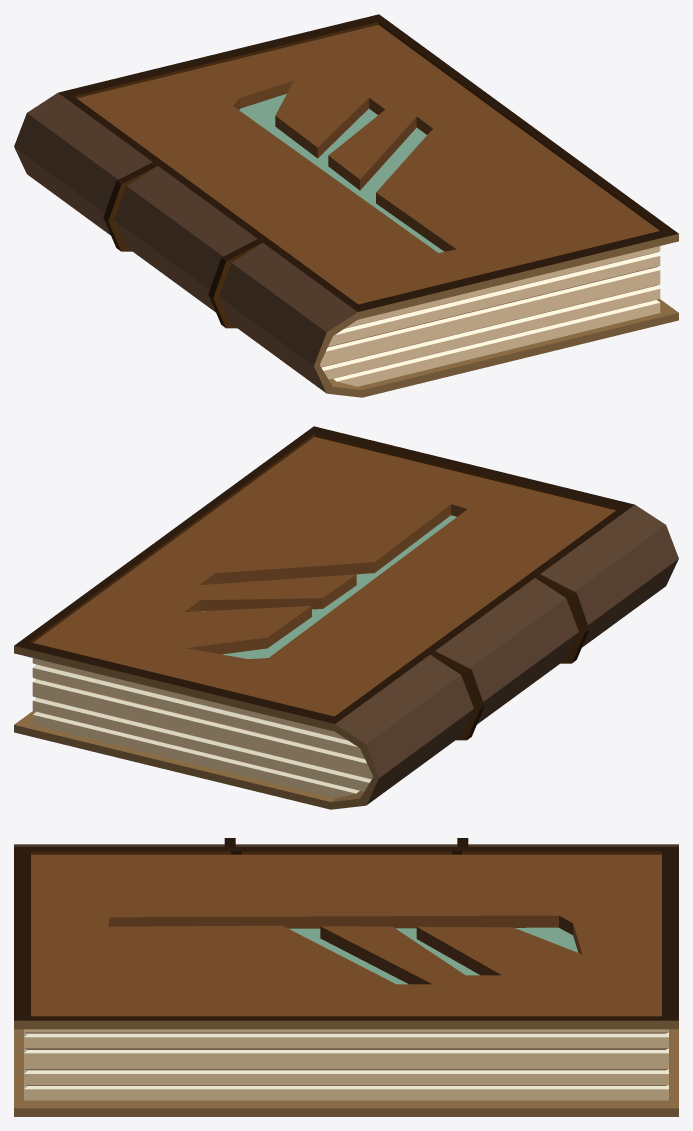
The model's file is Book_04.glb.
3 renders of one model, top to bottom at view 1: azimuth 30°, elevation 25°; view 2: azimuth 150°, elevation 25°; view 3: azimuth 270°, elevation 25°, orthographic. The views are drawn at different scales.
Parts seen in each view (by area): view 1: Book_04; view 2: Book_04; view 3: Book_04.
Part boxes in pixels (x1,y1,x2,y2): Book_04: [14, 14, 678, 397]; Book_04: [14, 426, 678, 809]; Book_04: [14, 838, 678, 1116].
Size of what is drawn, in the model's own units: 0.3349 by 0.0748 by 0.4692.
2 materials, 2 textured.
